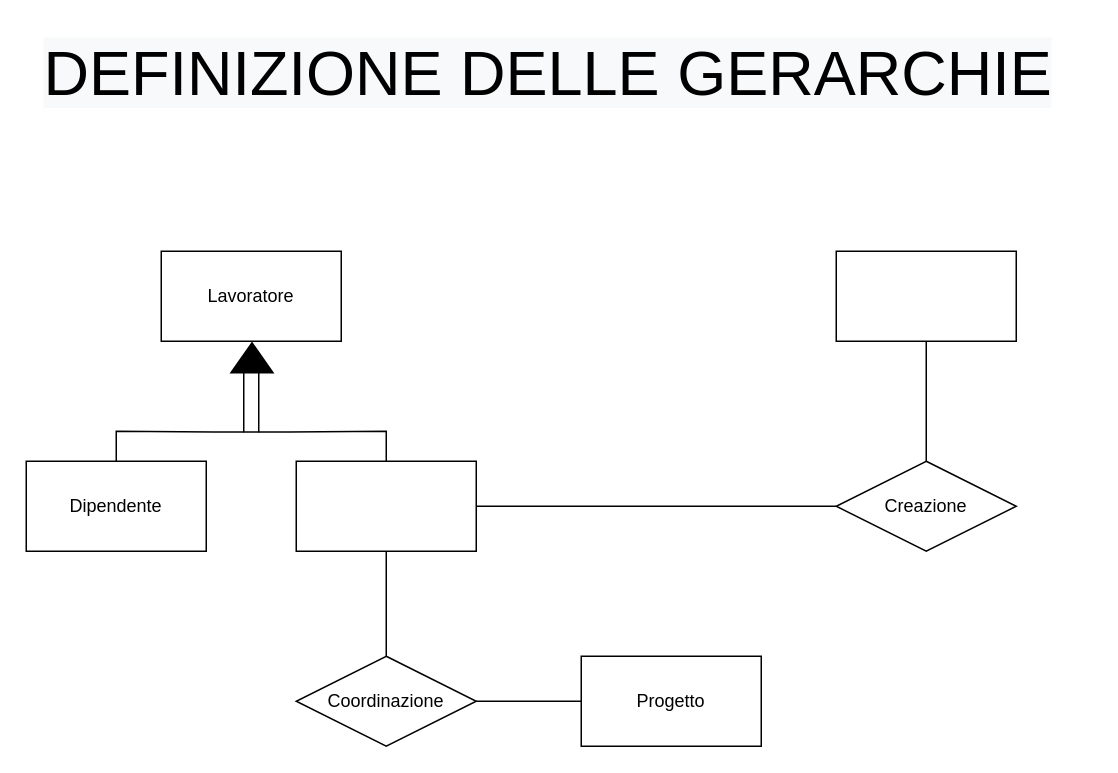
The diagram is 1118 pixels wide and 773 high, and some of its shapes have lost their labels. Here are the shapes that lost their labels. From the top down, the box of each, then its label:
(835, 250, 1016, 341): Canale di comunicazione
(295, 460, 476, 551): Capoprogetto
